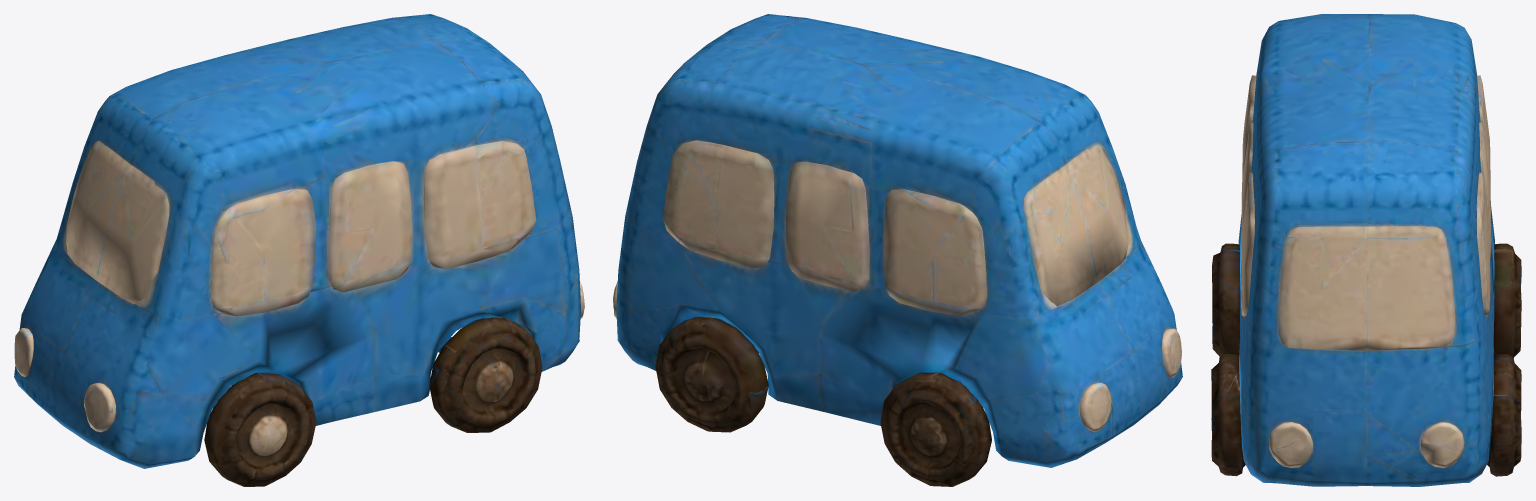
File: van-blue.glb
3 renders of one model, left to right at view 1: azimuth 30°, elevation 25°; view 2: azimuth 150°, elevation 25°; view 3: azimuth 270°, elevation 25°, orthographic.
Parts seen in each view (by area): view 1: geometry_0; view 2: geometry_0; view 3: geometry_0.
Boxes of the visible parts, box(x1,y1,x2,y2) form: geometry_0: box(14, 14, 584, 486); geometry_0: box(613, 14, 1182, 486); geometry_0: box(1211, 14, 1521, 486).
Size of the model in its own units: 1 by 0.6686 by 0.5504.
Materials: 1 (1 with a texture image).
